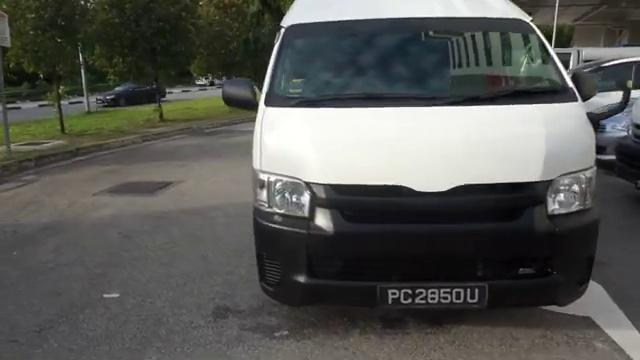Van: (240, 0, 616, 318)
